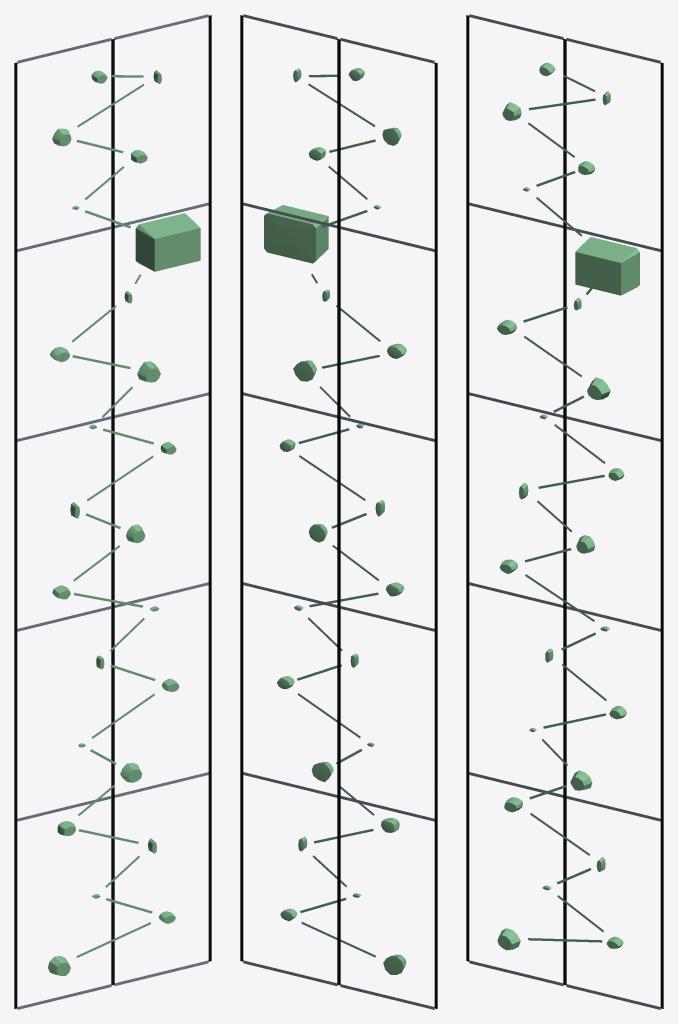
Rendered from tt_climb_lead_routes_d.glb.
The picture shows the model from 3 angles, left to right: view 1: azimuth 30°, elevation 25°; view 2: azimuth 150°, elevation 25°; view 3: azimuth 330°, elevation 25°; orthographic projection.
Visible parts, largest first — view 1: Grid_Mullion, Holds_PU, Route_Tape, Grid_Course_L, Grid_Course_R; view 2: Grid_Mullion, Holds_PU, Route_Tape, Grid_Course_L, Grid_Course_R; view 3: Grid_Mullion, Holds_PU, Route_Tape, Grid_Course_L, Grid_Course_R.
Boxes of the visible parts, x1=… form: Grid_Mullion: x1=14, y1=15, x2=211, y2=1008; Holds_PU: x1=48, y1=70, x2=200, y2=975; Route_Tape: x1=72, y1=75, x2=155, y2=957; Grid_Course_L: x1=17, y1=38, x2=111, y2=1009; Grid_Course_R: x1=114, y1=14, x2=208, y2=986; Grid_Mullion: x1=240, y1=15, x2=437, y2=1008; Holds_PU: x1=264, y1=68, x2=406, y2=974; Route_Tape: x1=297, y1=74, x2=380, y2=957; Grid_Course_L: x1=340, y1=38, x2=434, y2=1009; Grid_Course_R: x1=243, y1=14, x2=337, y2=986; Grid_Mullion: x1=466, y1=15, x2=663, y2=1008; Holds_PU: x1=497, y1=62, x2=639, y2=950; Route_Tape: x1=523, y1=74, x2=606, y2=942; Grid_Course_L: x1=469, y1=14, x2=563, y2=986; Grid_Course_R: x1=566, y1=38, x2=660, y2=1009.
Size of what is drawn, in the model's own units: 2.5 by 11.5 by 0.364.
Materials: 5 (2 with a texture image).
